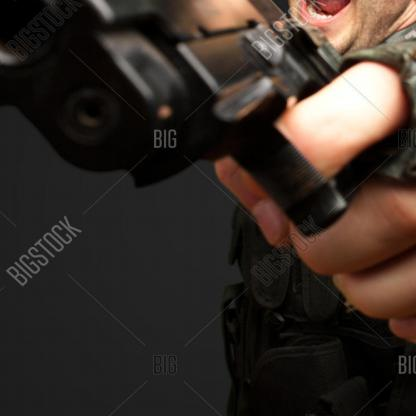gun: (0, 0, 365, 256)
